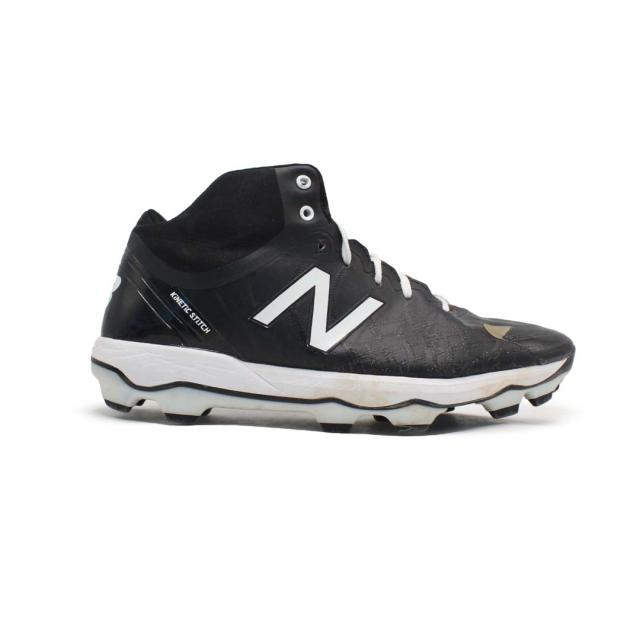heel: (94, 195, 199, 340)
midsole: (90, 336, 577, 430)
uppersole: (183, 163, 574, 367)
